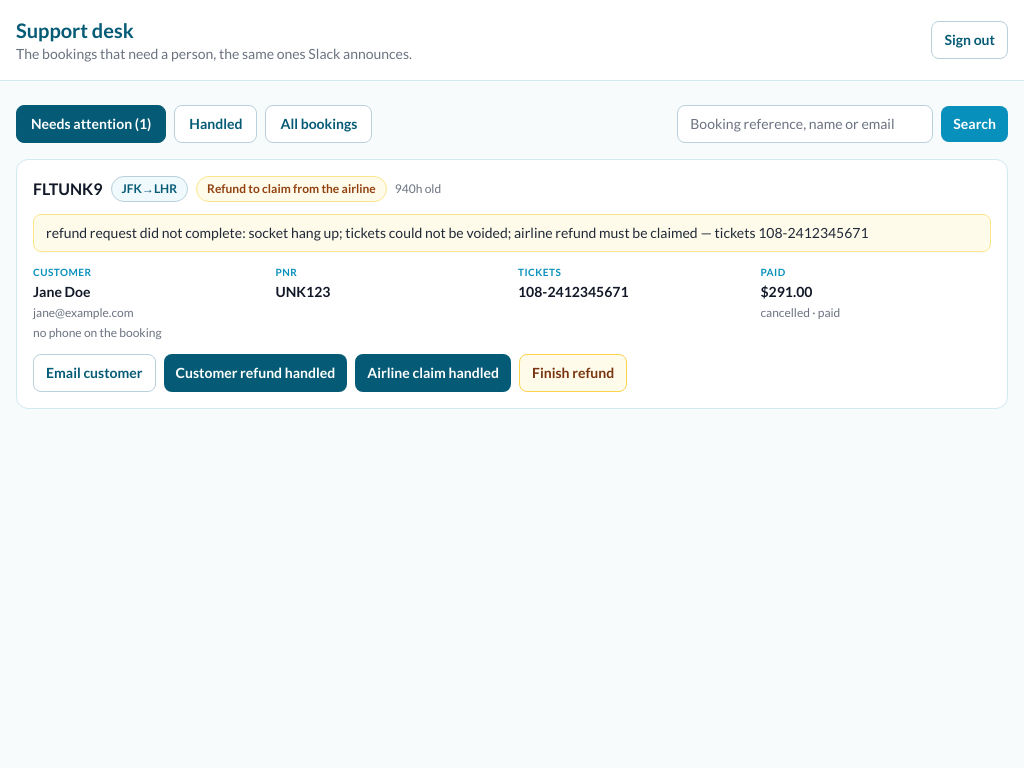
Test case: beside it › "Airline claim handled" says the customer's refund stays on the list
Expected: the heading "FLTUNK9" is shown, [33,177,103,201]
Click the button "Airline claim handled": coordinates (433, 373) [355,354,511,392]
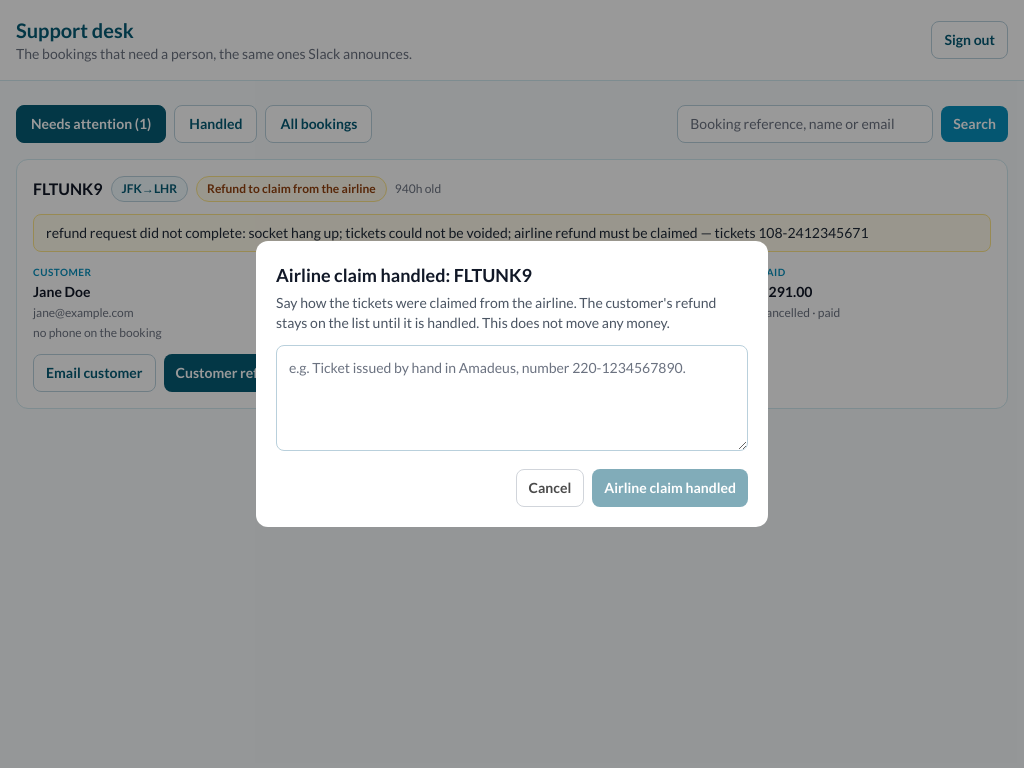
Expected: the dialog shows "customer's refund stays on the list", [276,294,716,331]
